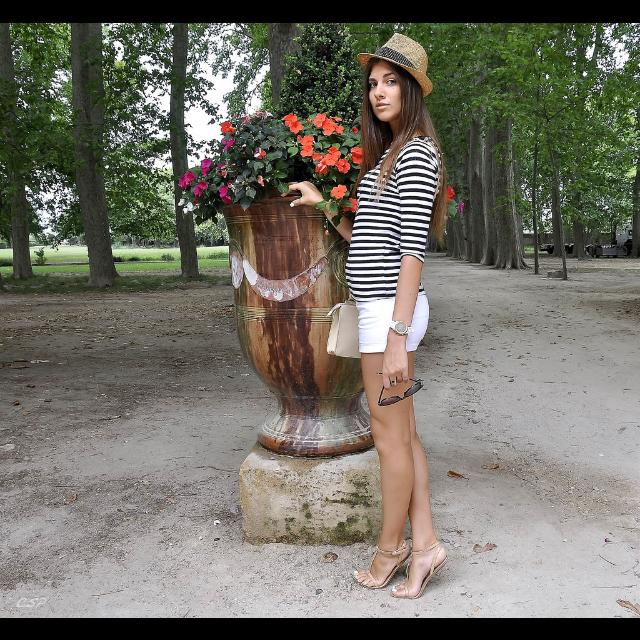Flower: (178, 120, 234, 204), (316, 146, 348, 172), (309, 112, 343, 136), (296, 132, 314, 158), (283, 110, 301, 132), (342, 198, 358, 212), (348, 148, 362, 164), (252, 146, 266, 158), (332, 184, 346, 196), (257, 174, 267, 188), (446, 184, 452, 200), (349, 126, 359, 134)
